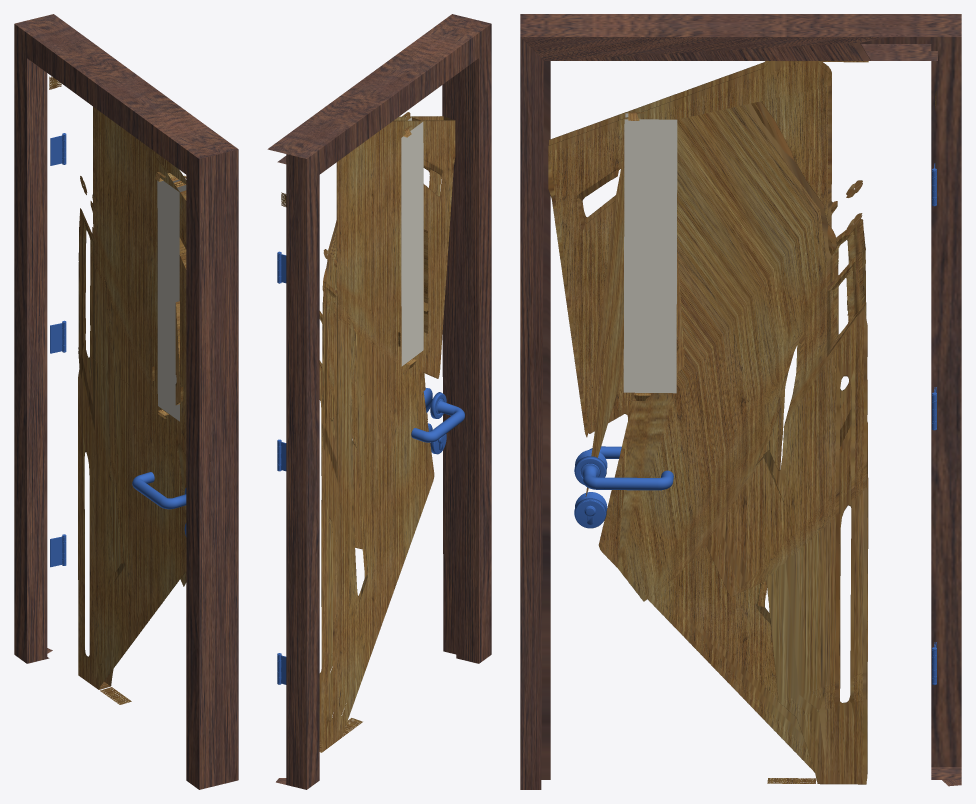
The model's file is school hall fbx.fbx_door_classroom.fbx.
The picture shows the model from 3 angles, left to right: view 1: azimuth 30°, elevation 25°; view 2: azimuth 150°, elevation 25°; view 3: azimuth 270°, elevation 25°; orthographic projection. The views are drawn at different scales.
Parts seen in each view (by area): view 1: Cube.006, Plane, Cylinder.001, Cylinder.010; view 2: Cube.006, Plane; view 3: Plane, Cube.006.
Boxes of the visible parts, <box> form: Cube.006: <box>14,14,238,789</box>; Plane: <box>49,76,186,704</box>; Cylinder.001: <box>50,537,66,567</box>; Cylinder.010: <box>50,323,66,353</box>; Cube.006: <box>267,14,491,789</box>; Plane: <box>281,112,464,752</box>; Plane: <box>548,61,936,784</box>; Cube.006: <box>520,14,961,789</box>.
Size of the model in its own units: 16.85 by 139 by 73.89.
